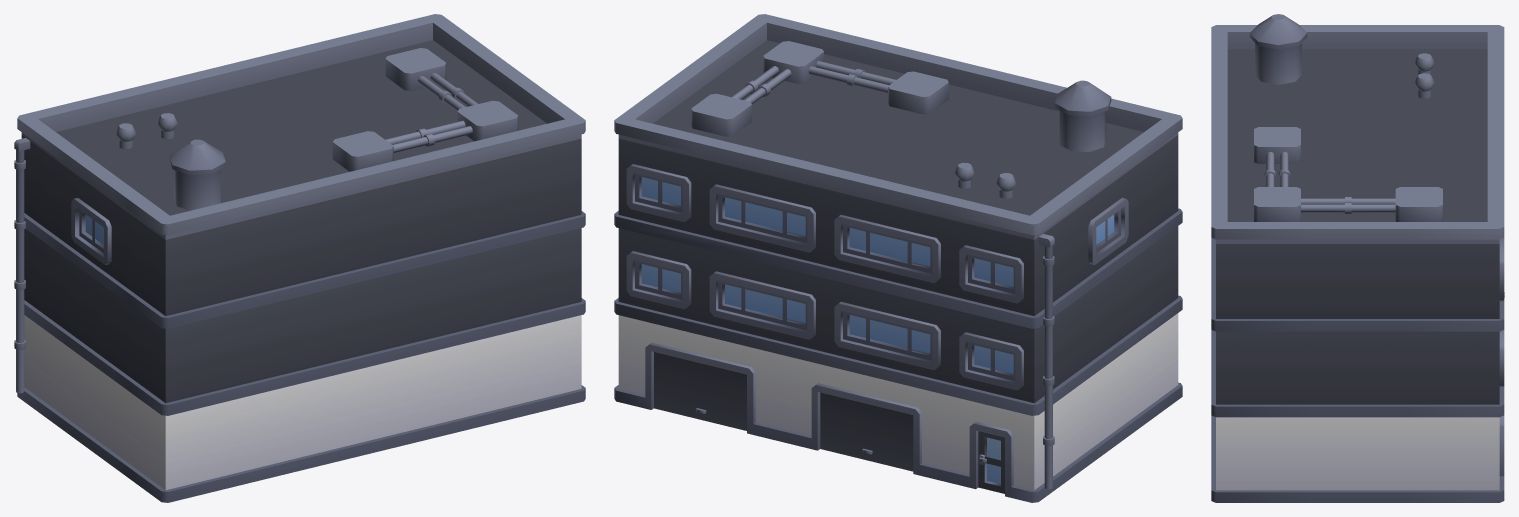
Rendered from warehouse.glb.
3 views of the same model, side by side, from view 1: azimuth 30°, elevation 25°; view 2: azimuth 150°, elevation 25°; view 3: azimuth 270°, elevation 25° (orthographic).
Parts seen in each view (by area): view 1: building-a; view 2: building-a; view 3: building-a.
Part boxes in pixels (x1,y1,x2,y2): building-a: (14,14,585,502); building-a: (614,14,1182,502); building-a: (1211,14,1504,502).
Size of the model in its own units: 2.08 by 1.47 by 1.24.
Materials: 1 (1 with a texture image).
